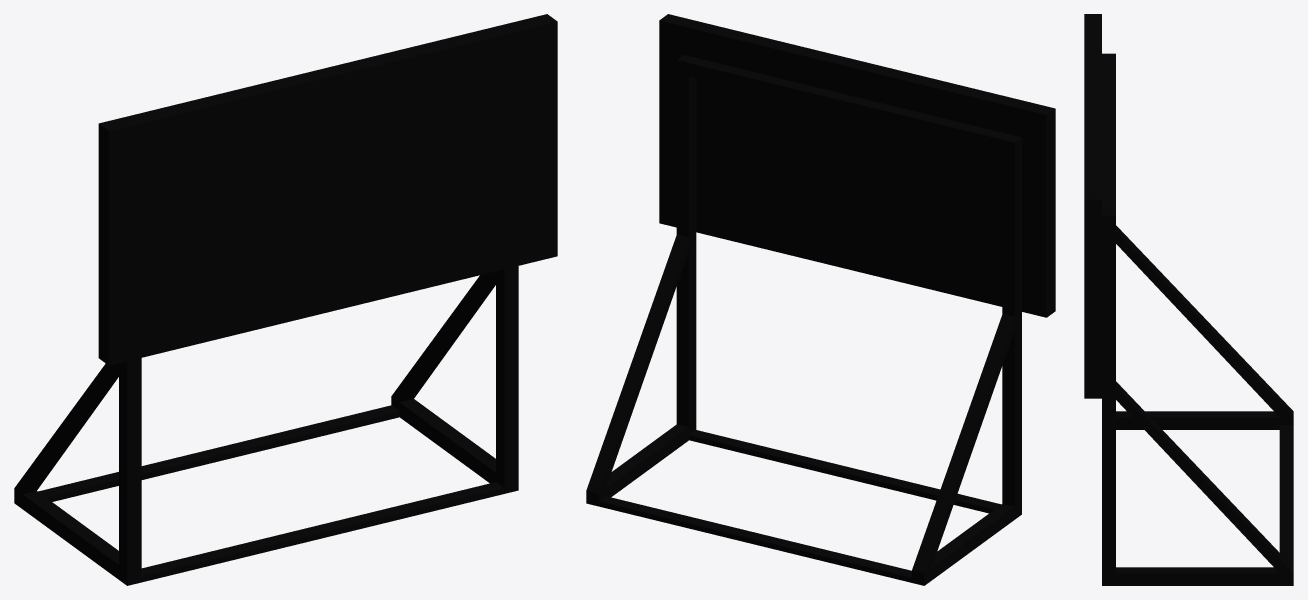
File: billboard.glb
The picture shows the model from 3 angles, left to right: view 1: azimuth 30°, elevation 25°; view 2: azimuth 150°, elevation 25°; view 3: azimuth 270°, elevation 25°; orthographic projection. The views are drawn at different scales.
Parts seen in each view (by area): view 1: Mesh billboard; view 2: Mesh billboard; view 3: Mesh billboard.
Boxes of the visible parts, left/top/right/bottom form: Mesh billboard: left=14, top=14, right=557, bottom=585; Mesh billboard: left=586, top=14, right=1055, bottom=585; Mesh billboard: left=1084, top=14, right=1293, bottom=585.
Bounding box in the file's own units: 1 × 1 × 0.4762.
1 material, 1 textured.
